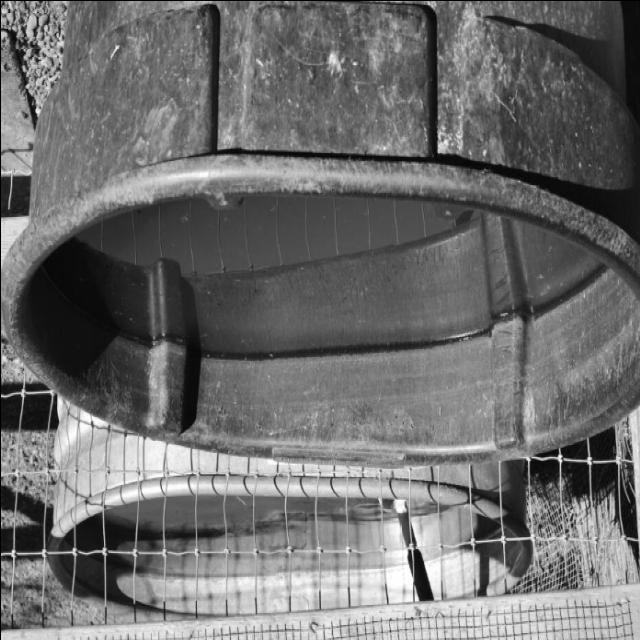Breeding Place: (0, 0, 640, 431), (24, 352, 562, 628)
